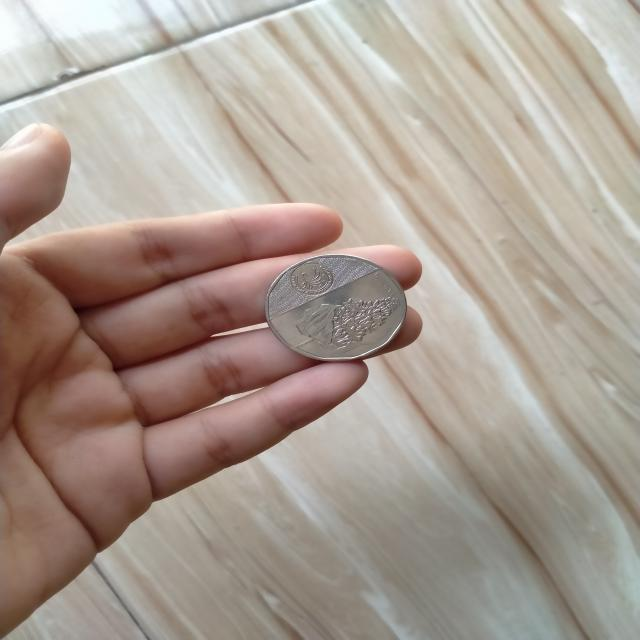10_New_Back: (289, 290, 409, 364)
